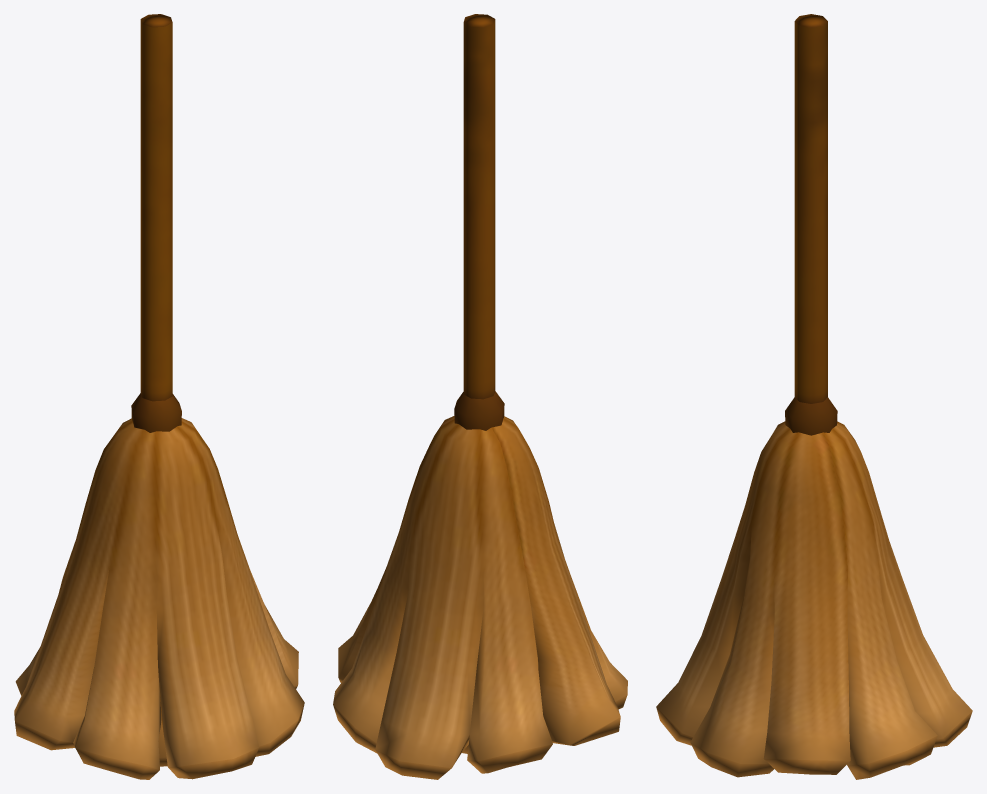
The model's file is ToolDusterNormal.glb.
3 views of the same model, side by side, from view 1: azimuth 30°, elevation 25°; view 2: azimuth 150°, elevation 25°; view 3: azimuth 270°, elevation 25° (orthographic).
Parts seen in each view (by area): view 1: base__mTool; view 2: base__mTool; view 3: base__mTool.
Boxes of the visible parts, x1,y1,x2,y2 form: base__mTool: [14, 14, 304, 779]; base__mTool: [333, 14, 627, 779]; base__mTool: [656, 14, 972, 779].
Bounding box in the file's own units: 3.13 × 7.72 × 3.01.
Materials: 1 (1 with a texture image).
